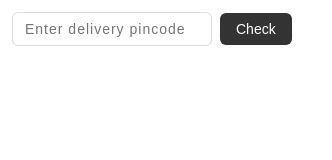
Test case: says so when the pincode cannot be delivered to
In the field labelled "delivery pincode": coordinates (112, 29) [12, 12, 212, 46], type "194101"
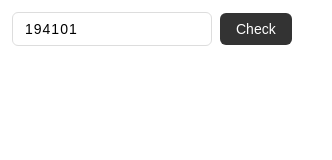
Click the button "Check": coordinates (256, 29) [220, 13, 292, 45]
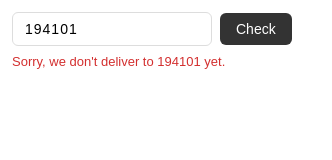
Expected: the message shows "we don't deliver to 194101 yet", [12, 54, 225, 69]
